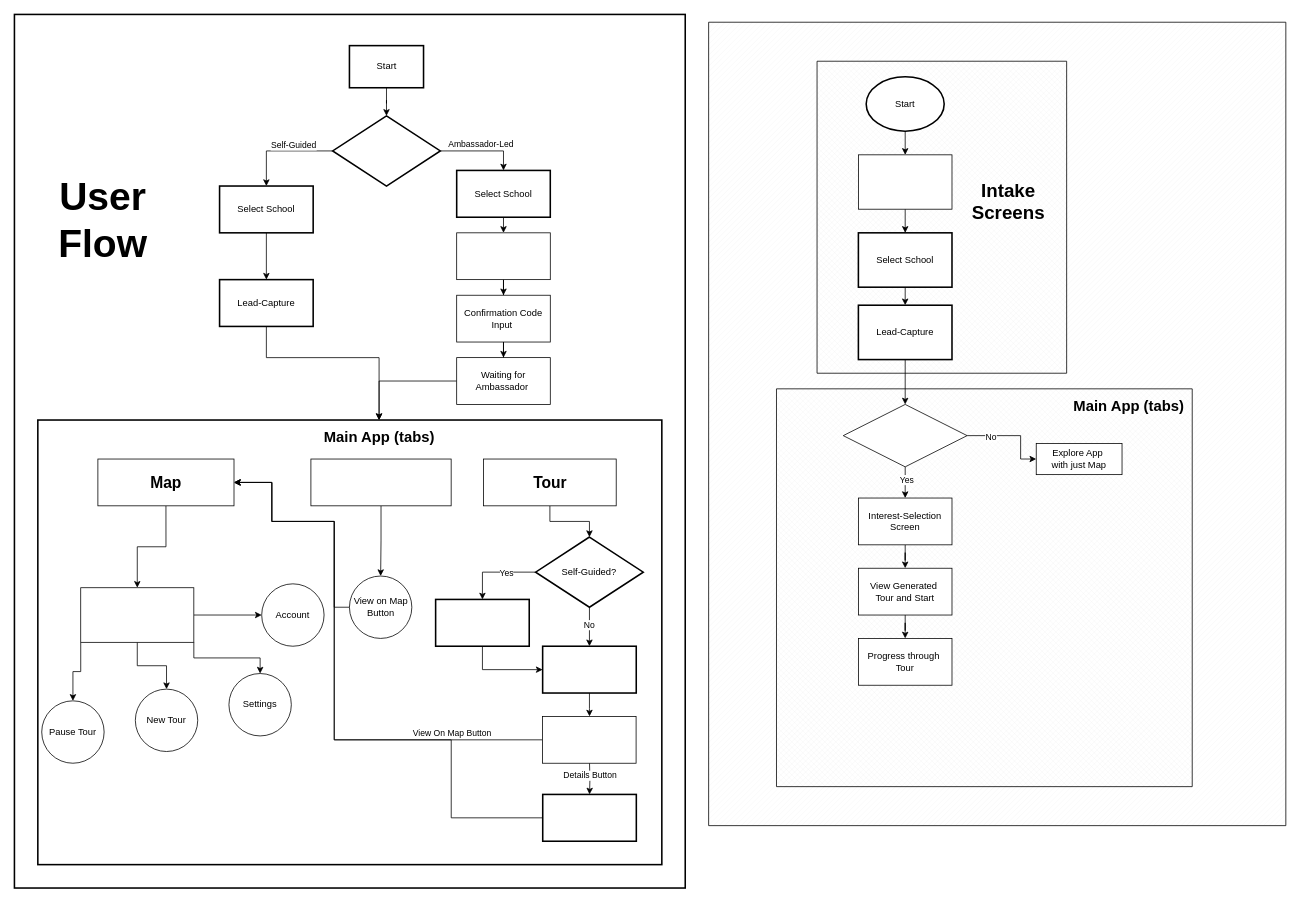
Some shapes in this 1299 by 902 pixel diagram are drawn without their labels. The shapes that lost their labels are listed below. From the top down, each one's centre as x and y in pixels, then its label:
point (386, 150): Select Tour Type
point (905, 181): Select Self-guided
point (503, 256): Tour Group Select
point (904, 435): Generate Tour? (Modal Pop-up)
point (380, 482): Current Stop
point (137, 614): Hamburger Menu
point (482, 622): Interest Selection & Tour Generation
point (589, 669): Listed Tour Stops
point (589, 739): Individual Tour Stop
point (589, 817): Location Detail Screen
